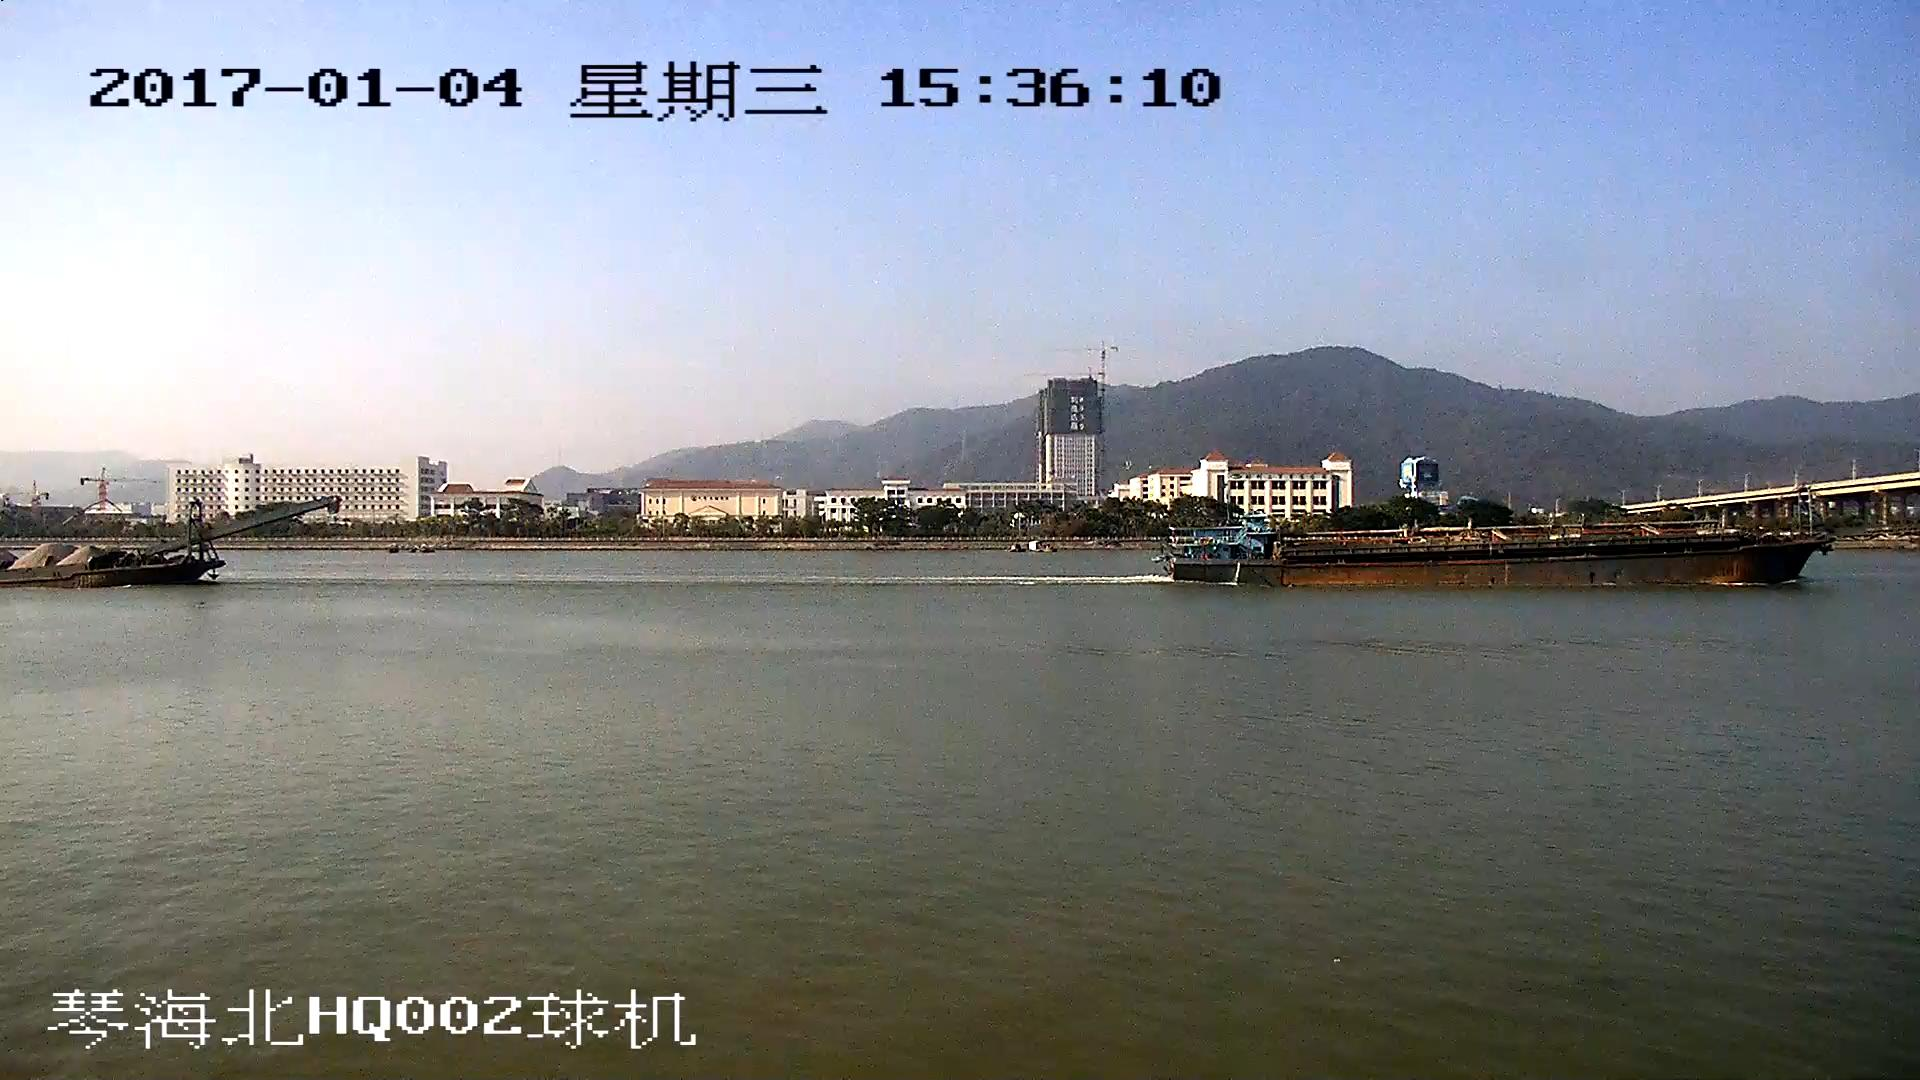bulk cargo carrier: (1162, 523, 1828, 586)
ore carrier: (1, 499, 331, 587)
